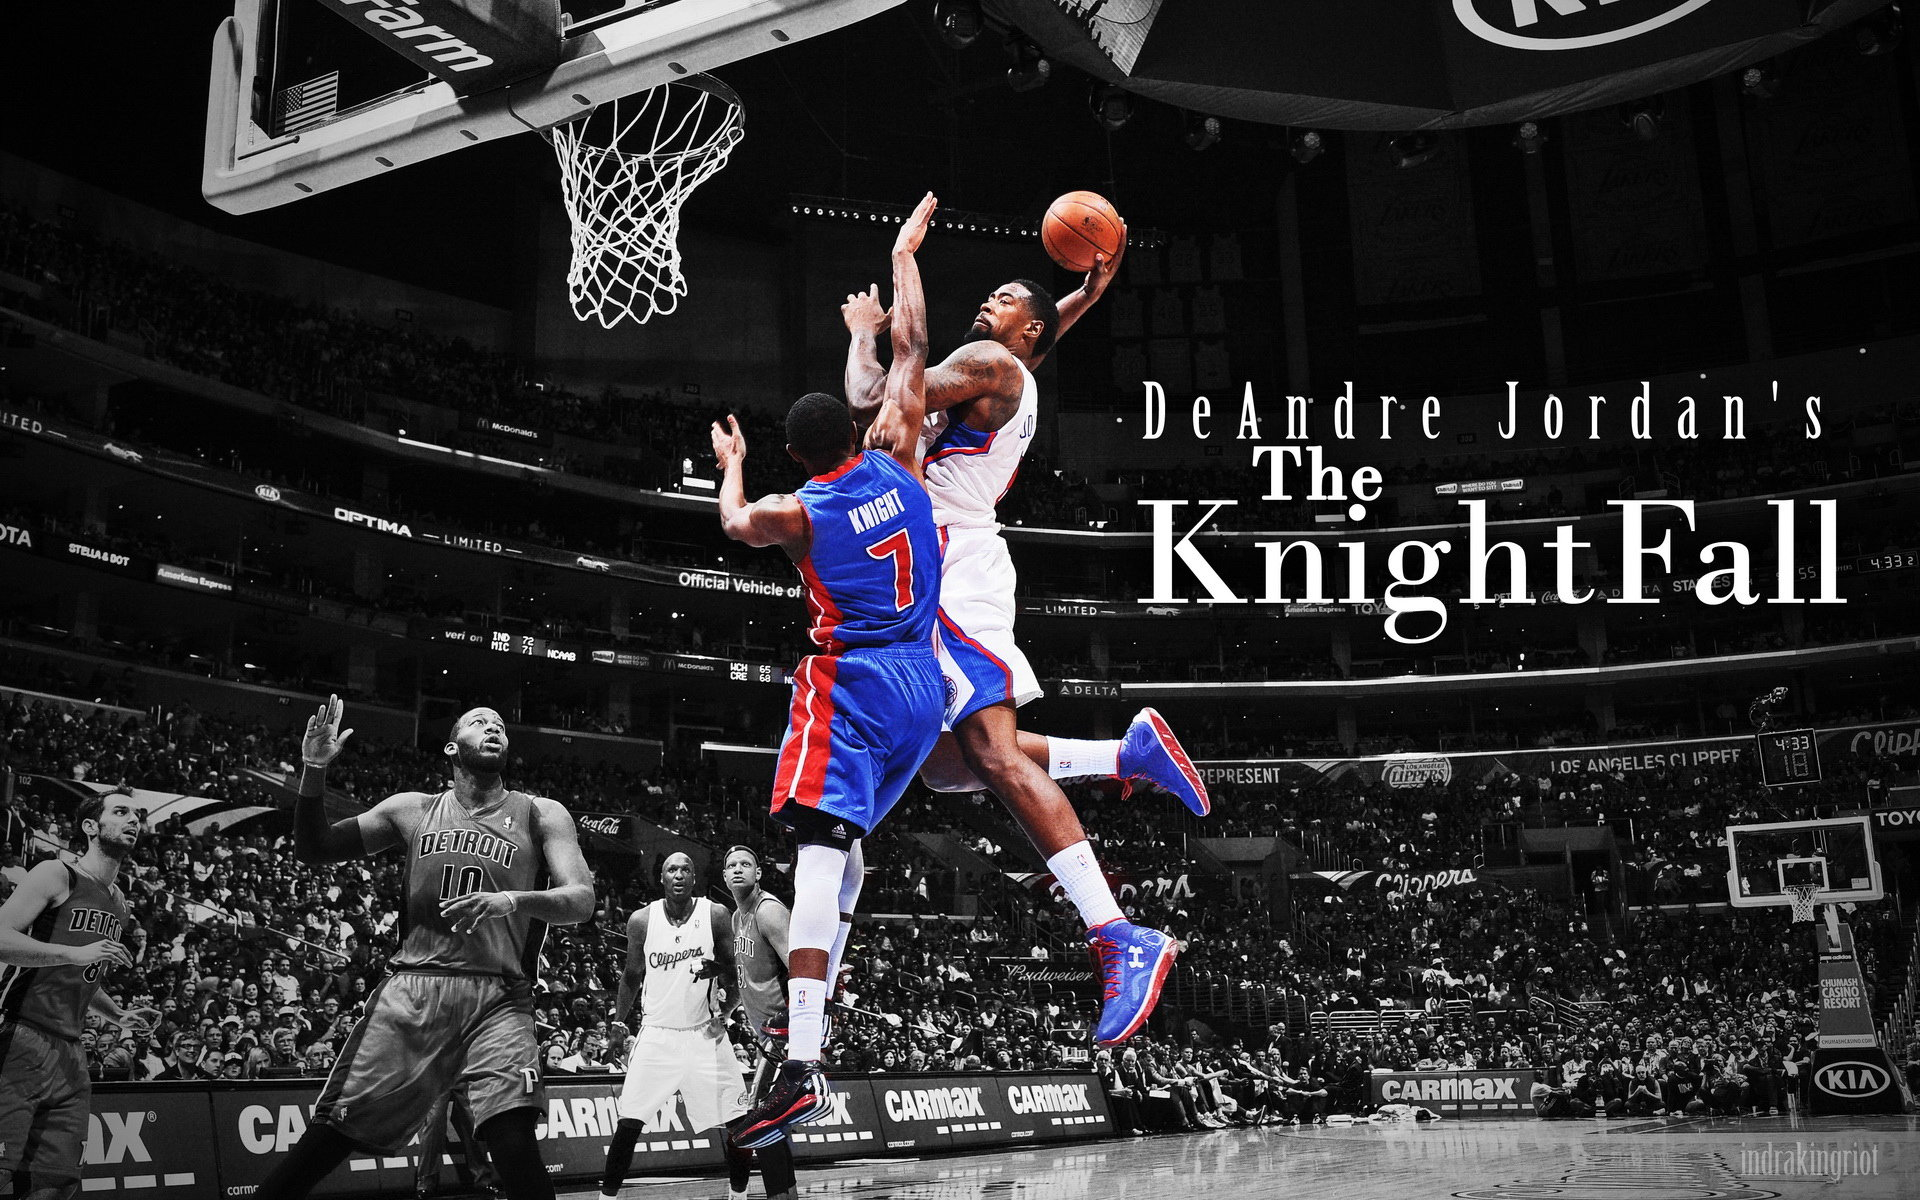ball: (1042, 189, 1125, 272)
